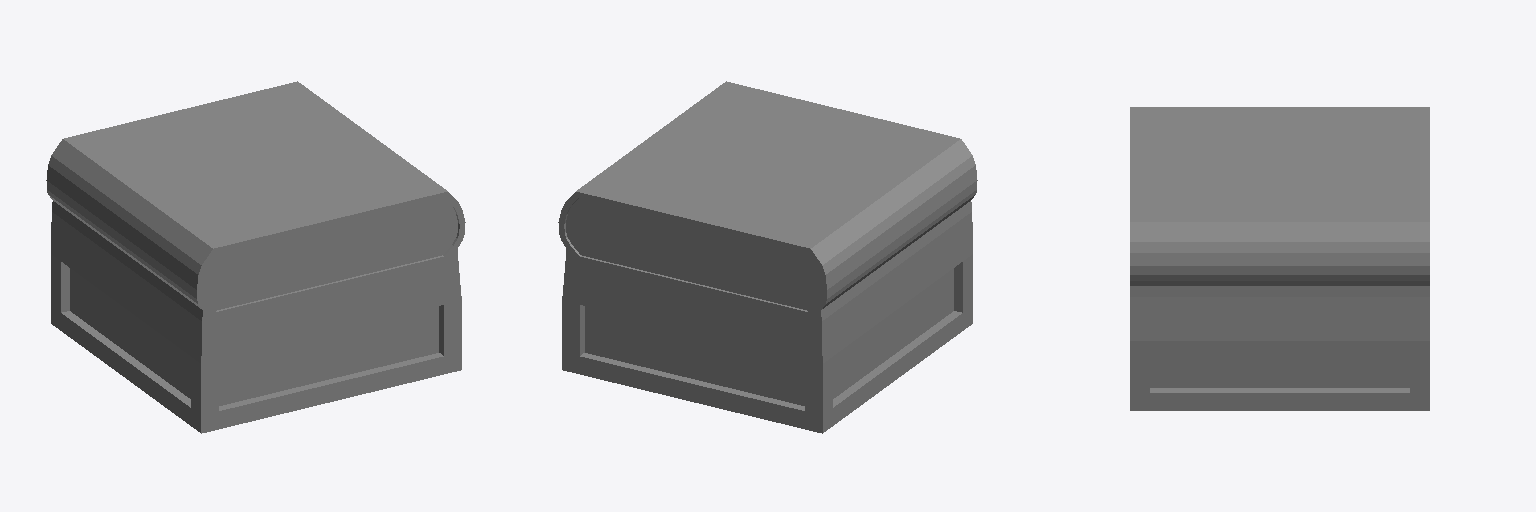
The model's file is conveyor_normal_v2.obj.
3 views of the same model, side by side, from view 1: azimuth 30°, elevation 25°; view 2: azimuth 150°, elevation 25°; view 3: azimuth 270°, elevation 25° (orthographic).
Visible parts, largest first — view 1: conveyor; view 2: conveyor; view 3: conveyor.
Part boxes in pixels (bbox=[...]): conveyor: bbox=[46, 81, 465, 433]; conveyor: bbox=[558, 81, 977, 433]; conveyor: bbox=[1130, 107, 1429, 410].
Size of the model in its own units: 30.94 by 20.04 by 30.